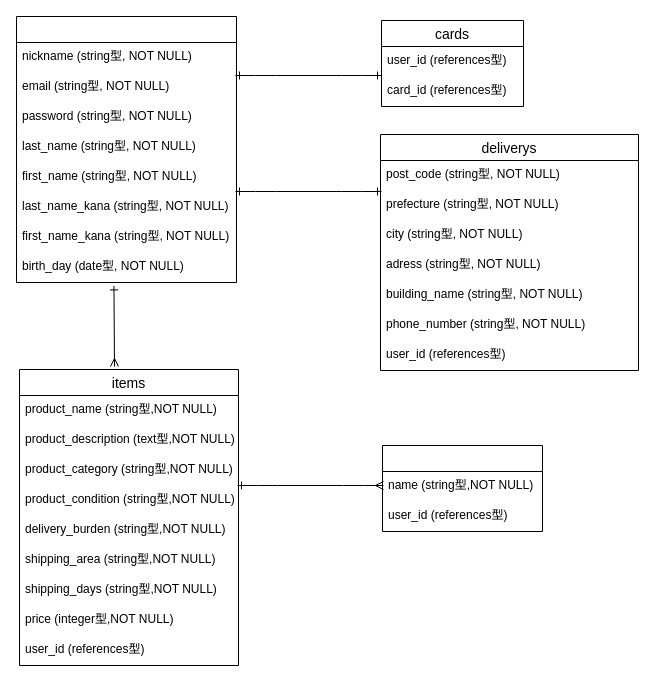
Image size: 655x682. Some labels were removed from this diagram. Each missing label, with the box of its shape:
images: (382, 444, 542, 532)
users: (16, 16, 236, 282)
